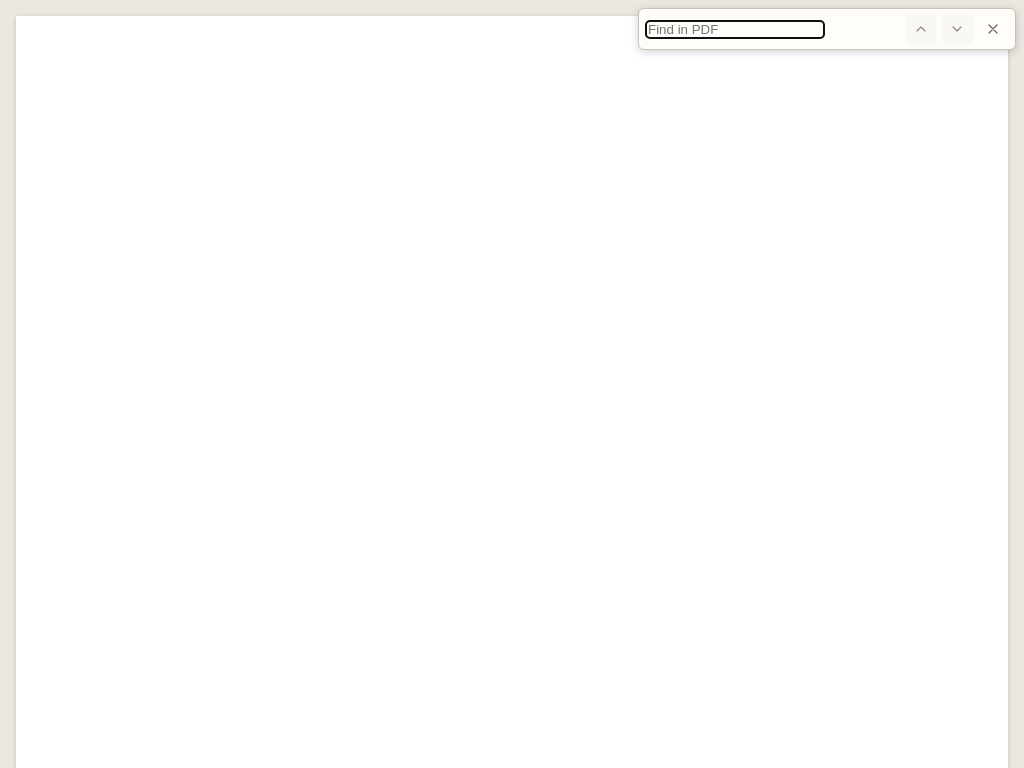
it: Find in PDF (spec 008 US4) › Enter and Shift+Enter step through matches and wrap
Earlier steps of the test are not shown.
Step 1. Type "one" into the search field labelled "Find in PDF" → (735, 29), box left=645, top=20, right=825, bottom=38
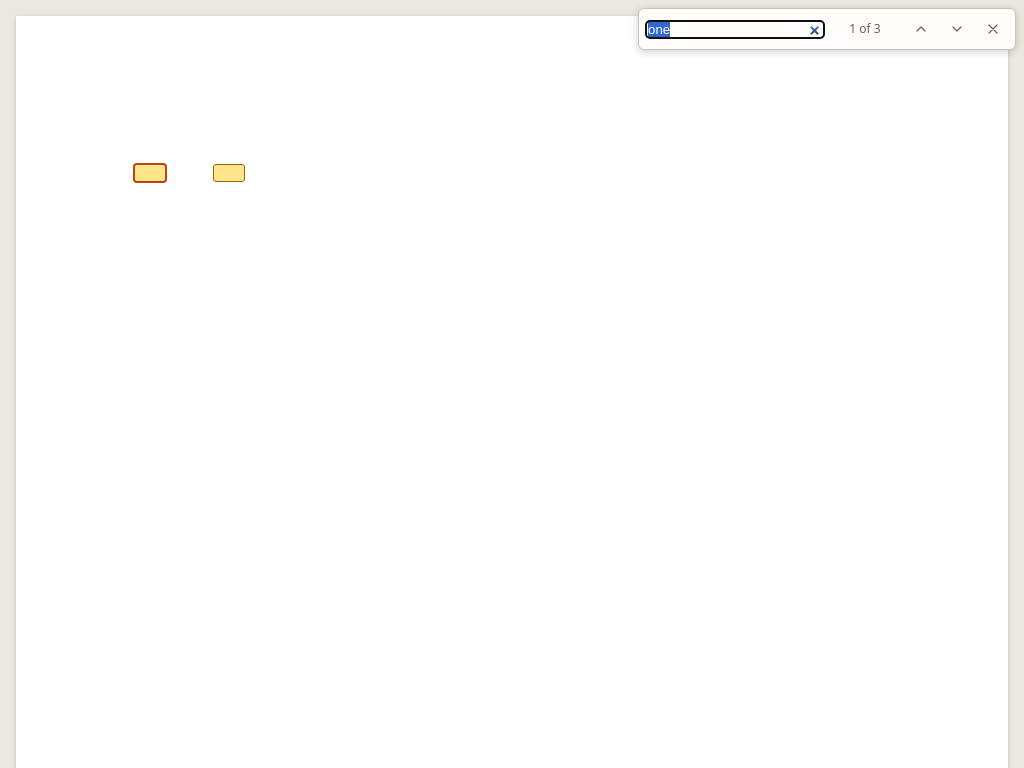
Now the text "1 of 3" is shown, box left=849, top=20, right=881, bottom=37
Step 2. Press Enter in the search field named "Find in PDF", box left=645, top=20, right=825, bottom=38
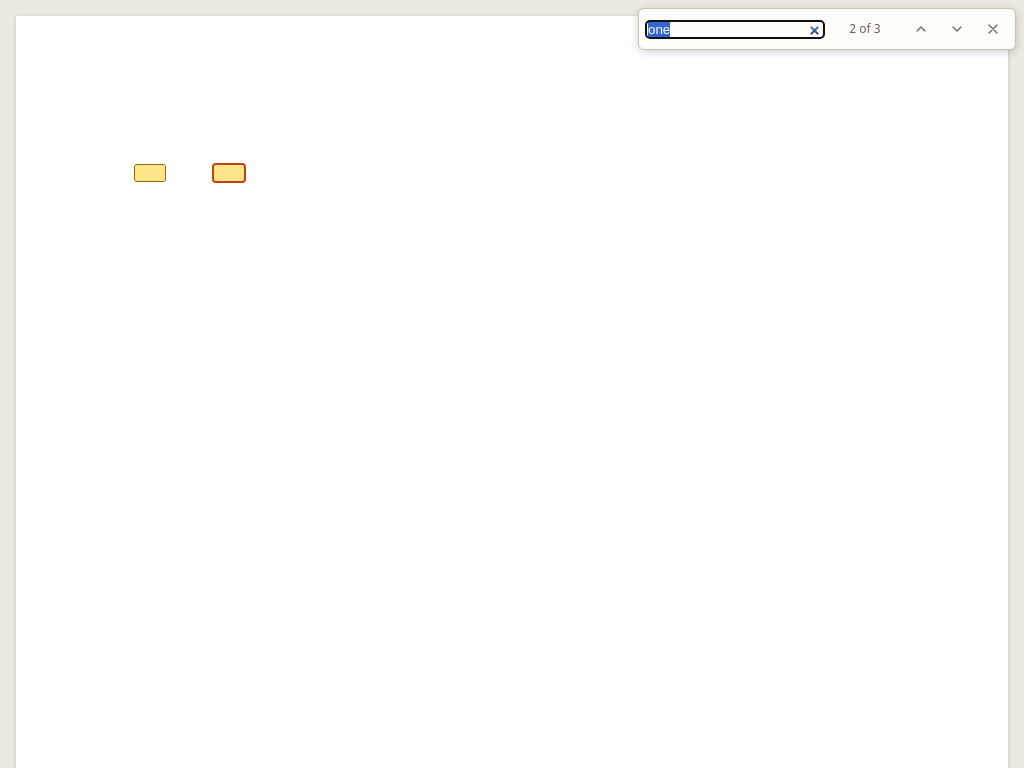
Now the text "2 of 3" is shown, box left=849, top=20, right=881, bottom=37
Step 3. Press Enter in the search field named "Find in PDF", box left=645, top=20, right=825, bottom=38
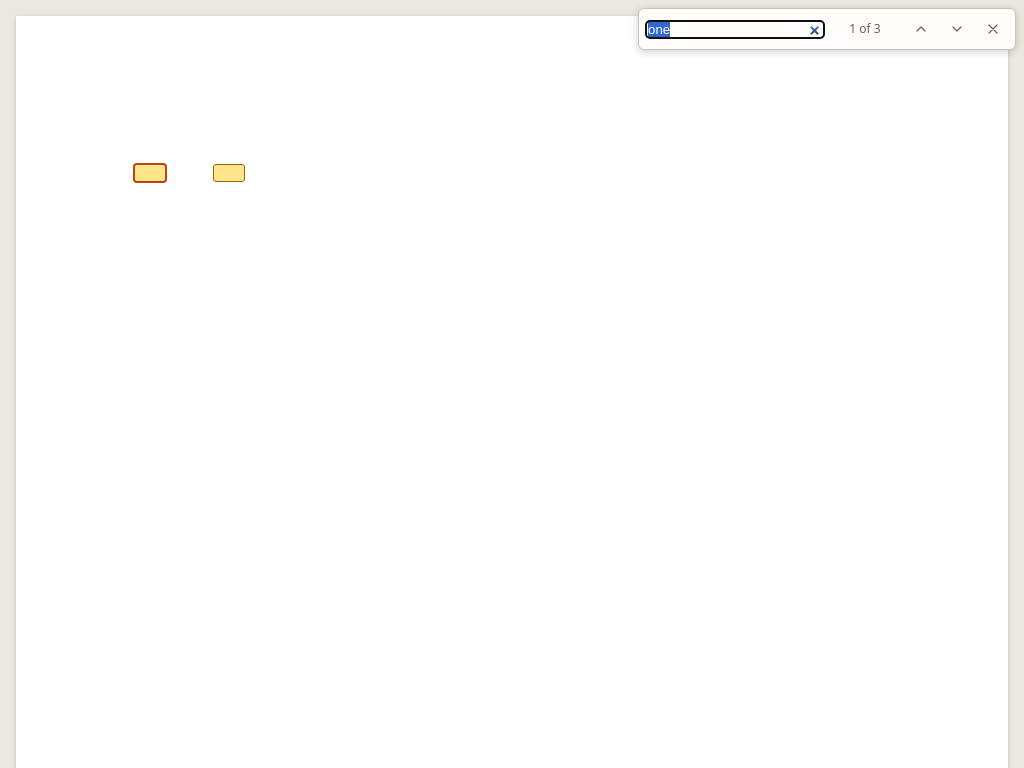
Step 4. Press Enter in the search field named "Find in PDF", box left=645, top=20, right=825, bottom=38
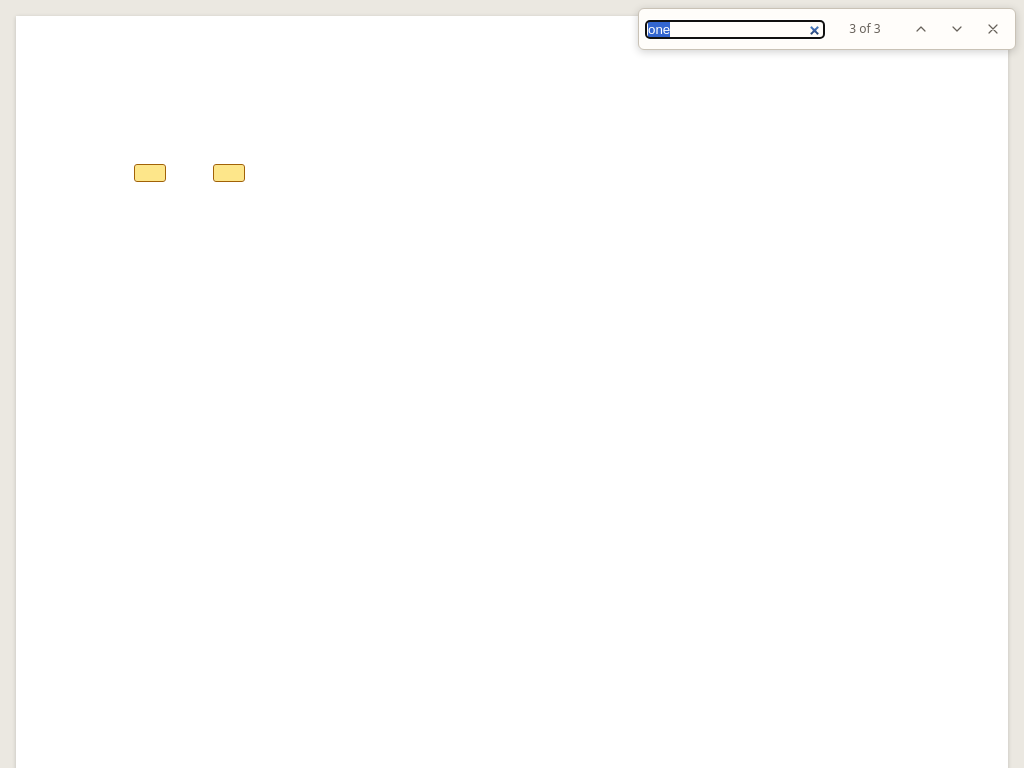
Now the text "3 of 3" is shown, box left=849, top=20, right=881, bottom=37
